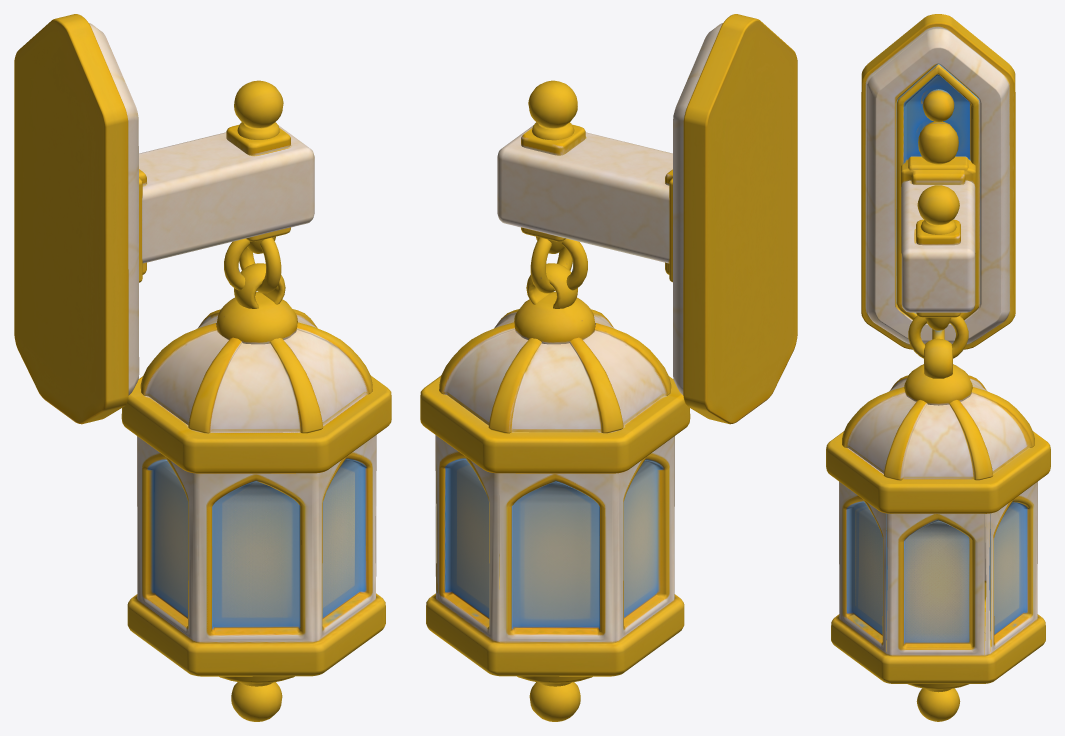
The model's file is NEW_WallLamp_SM_tex4k_pbr_src.fbx.
3 views of the same model, side by side, from view 1: azimuth 30°, elevation 25°; view 2: azimuth 150°, elevation 25°; view 3: azimuth 270°, elevation 25° (orthographic). The views are drawn at different scales.
Visible parts, largest first — view 1: tripo_7cc69486_f53a_4223_9e5d_162fd57a417d; view 2: tripo_7cc69486_f53a_4223_9e5d_162fd57a417d; view 3: tripo_7cc69486_f53a_4223_9e5d_162fd57a417d.
Part boxes in pixels (x1,y1,x2,y2): tripo_7cc69486_f53a_4223_9e5d_162fd57a417d: (14,14,391,721); tripo_7cc69486_f53a_4223_9e5d_162fd57a417d: (420,14,797,721); tripo_7cc69486_f53a_4223_9e5d_162fd57a417d: (826,14,1050,721).
Bounding box in the file's own units: 0.4224 × 0.9995 × 0.3257.
Materials: 1 (1 with a texture image).
